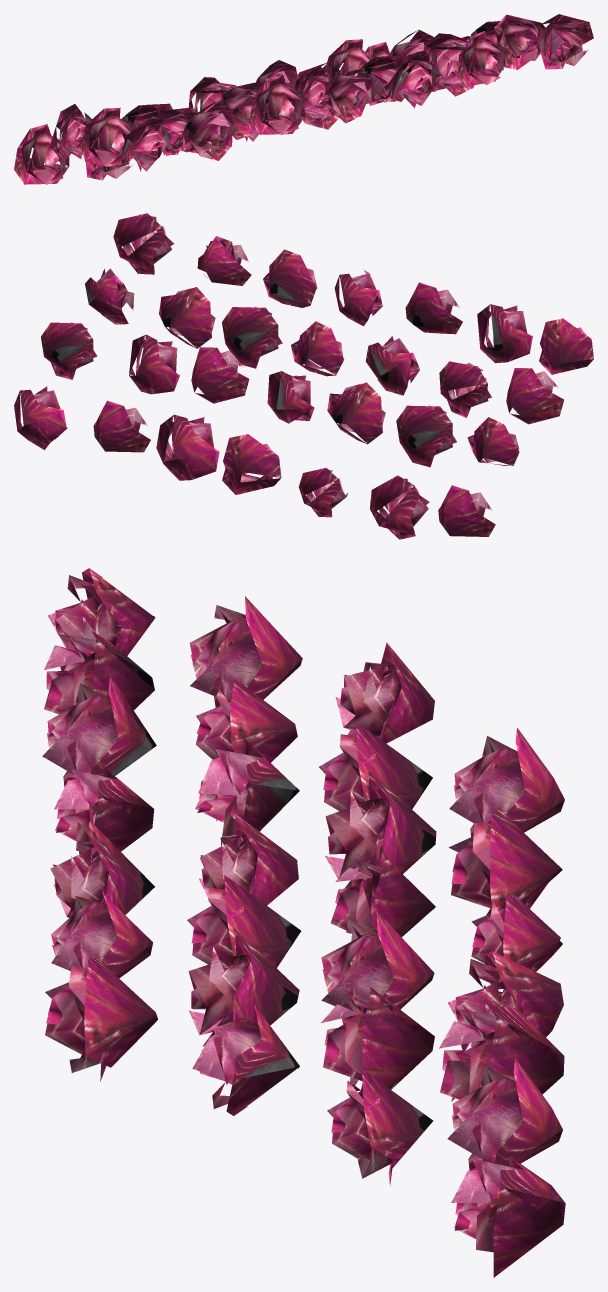
Rendered from nt_hydro_plant_red_LOD2.obj.
The picture shows the model from 3 angles, top to bottom: view 1: azimuth 30°, elevation 25°; view 2: azimuth 150°, elevation 25°; view 3: azimuth 270°, elevation 25°; orthographic projection. The views are drawn at different scales.
Visible parts, largest first — view 1: mtl_hydro_plant_red; view 2: mtl_hydro_plant_red; view 3: mtl_hydro_plant_red.
Part boxes in pixels (left/top/right/bottom): mtl_hydro_plant_red: left=14, top=14, right=593, bottom=184; mtl_hydro_plant_red: left=14, top=213, right=593, bottom=539; mtl_hydro_plant_red: left=42, top=568, right=565, bottom=1277.
Size of the model in its own units: 288 by 91.8 by 137.
